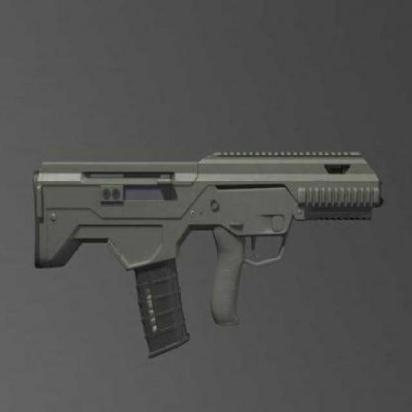Gun: (11, 102, 384, 381)
